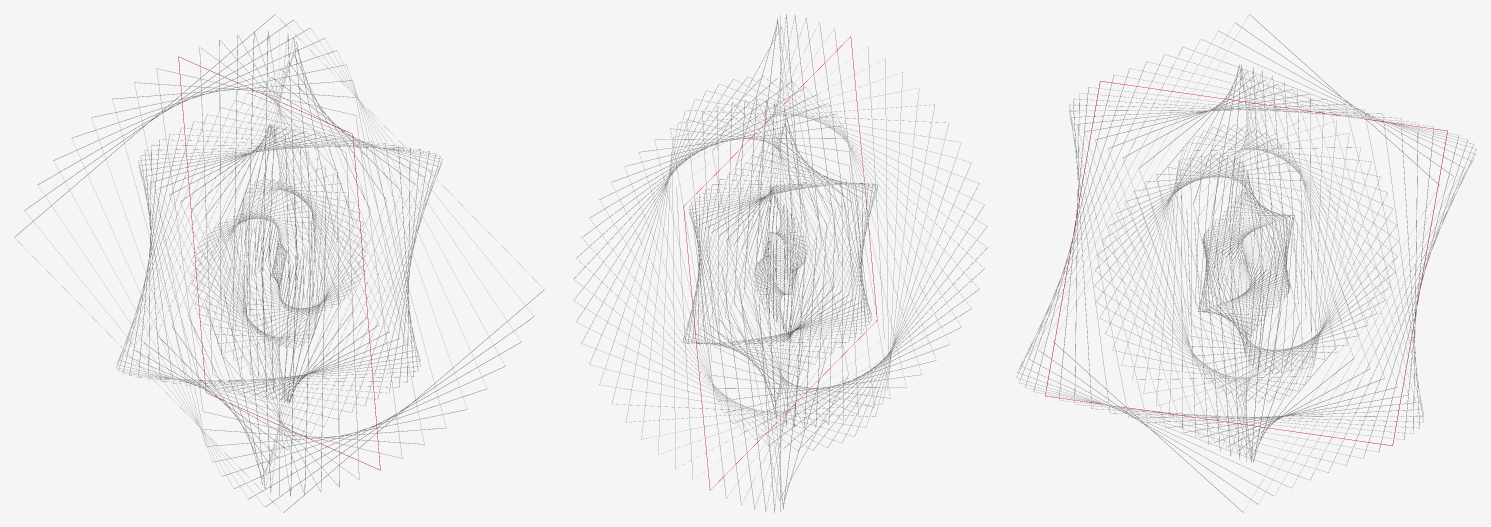
The model's file is paradox_abstract.glb.
The picture shows the model from 3 angles, left to right: view 1: azimuth 30°, elevation 25°; view 2: azimuth 150°, elevation 25°; view 3: azimuth 270°, elevation 25°; orthographic projection. The views are drawn at different scales.
Parts seen in each view (by area): view 1: Plane.097, Plane.098, Plane.099, Plane.096, Plane.095, Plane.094, Plane.093, Plane.092, Plane.091, Plane.090, Plane.069, Plane.068 (+31 smaller); view 2: Plane.083, Plane.082, Plane.084, Plane.081, Plane.085, Plane.086, Plane.079, Plane.080, Plane.093, Plane.087, Plane.094, Plane.098 (+49 smaller); view 3: Plane.091, Plane.092, Plane.093, Plane.090, Plane.089, Plane.094, Plane.088, Plane.095, Plane.096, Plane.087, Plane.086, Plane.097 (+42 smaller).
Part boxes in pixels (x1=…): Plane.097: x1=37, y1=27, x2=521, y2=499; Plane.098: x1=24, y1=19, x2=534, y2=507; Plane.099: x1=14, y1=14, x2=544, y2=512; Plane.096: x1=53, y1=38, x2=505, y2=488; Plane.095: x1=71, y1=50, x2=487, y2=476; Plane.094: x1=91, y1=64, x2=467, y2=462; Plane.093: x1=112, y1=80, x2=446, y2=446; Plane.092: x1=134, y1=82, x2=424, y2=444; Plane.091: x1=156, y1=68, x2=402, y2=458; Plane.090: x1=178, y1=56, x2=380, y2=470; Plane.069: x1=122, y1=127, x2=436, y2=399; Plane.068: x1=129, y1=133, x2=429, y2=393; Plane.083: x1=599, y1=99, x2=961, y2=427; Plane.082: x1=589, y1=90, x2=971, y2=436; Plane.084: x1=611, y1=110, x2=949, y2=416; Plane.081: x1=581, y1=83, x2=979, y2=443; Plane.085: x1=626, y1=104, x2=934, y2=422; Plane.086: x1=641, y1=87, x2=919, y2=439; Plane.079: x1=573, y1=76, x2=987, y2=450; Plane.080: x1=576, y1=79, x2=984, y2=447; Plane.093: x1=721, y1=17, x2=839, y2=509; Plane.087: x1=658, y1=72, x2=902, y2=454; Plane.094: x1=739, y1=15, x2=821, y2=511; Plane.098: x1=735, y1=21, x2=825, y2=504; Plane.091: x1=1033, y1=74, x2=1459, y2=452; Plane.092: x1=1025, y1=68, x2=1467, y2=458; Plane.093: x1=1019, y1=61, x2=1473, y2=465; Plane.090: x1=1045, y1=81, x2=1447, y2=445; Plane.089: x1=1059, y1=87, x2=1433, y2=439; Plane.094: x1=1016, y1=54, x2=1476, y2=472; Plane.088: x1=1074, y1=93, x2=1418, y2=433; Plane.095: x1=1017, y1=46, x2=1475, y2=480; Plane.096: x1=1021, y1=38, x2=1471, y2=488; Plane.087: x1=1073, y1=98, x2=1419, y2=428; Plane.086: x1=1069, y1=104, x2=1423, y2=422; Plane.097: x1=1028, y1=30, x2=1463, y2=496.
Bounding box in the file's own units: 2.24 × 3.08 × 2.59.
